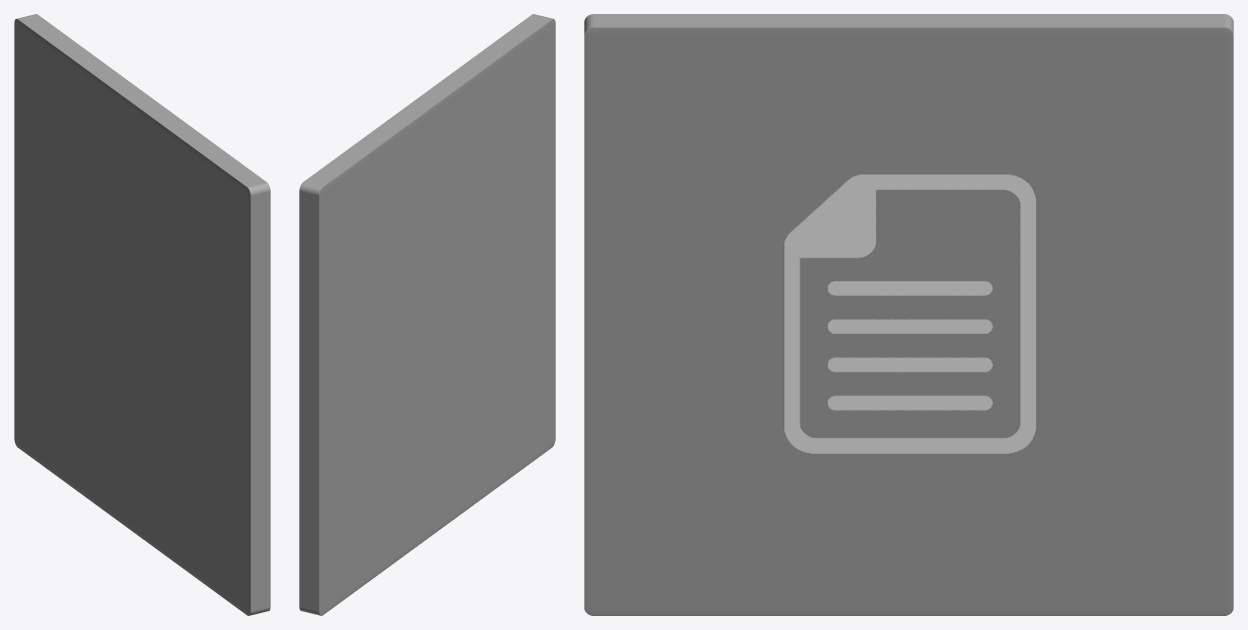
Rendered from resume-shrink.gltf.
The picture shows the model from 3 angles, left to right: view 1: azimuth 30°, elevation 25°; view 2: azimuth 150°, elevation 25°; view 3: azimuth 270°, elevation 25°; orthographic projection. The views are drawn at different scales.
Parts seen in each view (by area): view 1: Resume; view 2: Resume; view 3: Resume, paper-icon.
Part boxes in pixels (<box>): Resume: <box>14,14,270,615</box>; Resume: <box>299,14,555,615</box>; Resume: <box>584,14,1233,615</box>; paper-icon: <box>783,174,1036,454</box>.
Bounding box in the file's own units: 0.205 × 4 × 4.
2 materials, 1 textured.
